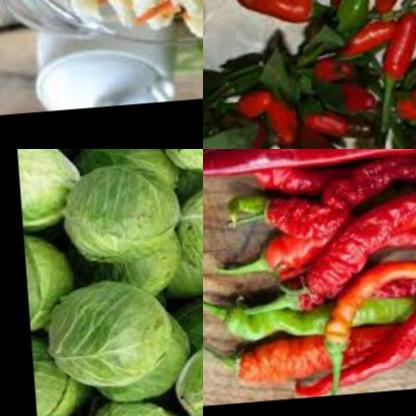brus capusta: (10, 149, 203, 416)
cayliflower: (62, 0, 189, 49), (152, 0, 203, 60)
hot pepper: (203, 283, 416, 379), (314, 199, 416, 398), (272, 194, 416, 318), (240, 151, 416, 240), (308, 239, 416, 367), (227, 331, 416, 400), (203, 149, 416, 183), (331, 15, 403, 69), (315, 60, 373, 121), (228, 0, 321, 33), (382, 11, 416, 93), (232, 75, 276, 125), (261, 96, 302, 149), (295, 108, 350, 147), (269, 118, 335, 149), (395, 78, 416, 135), (361, 0, 413, 21), (319, 0, 384, 16)
